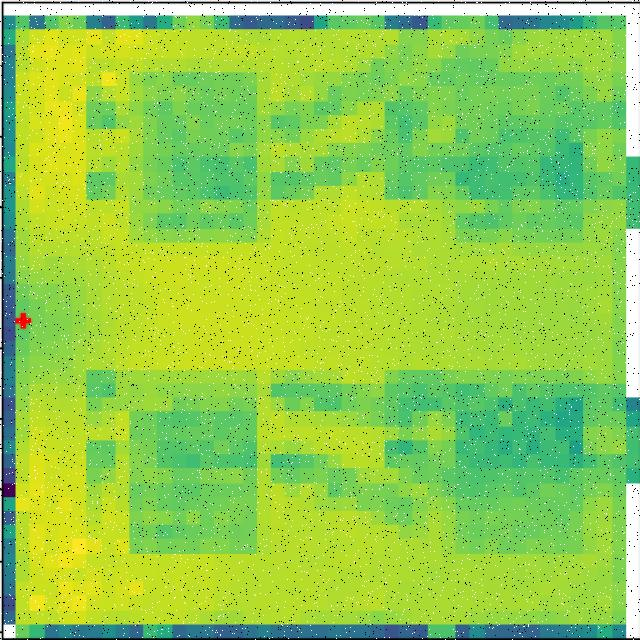Concrete: (127, 70, 261, 243)
Glass: (134, 387, 260, 558)
Metal: (451, 69, 582, 241)
Wood: (451, 378, 584, 544)
